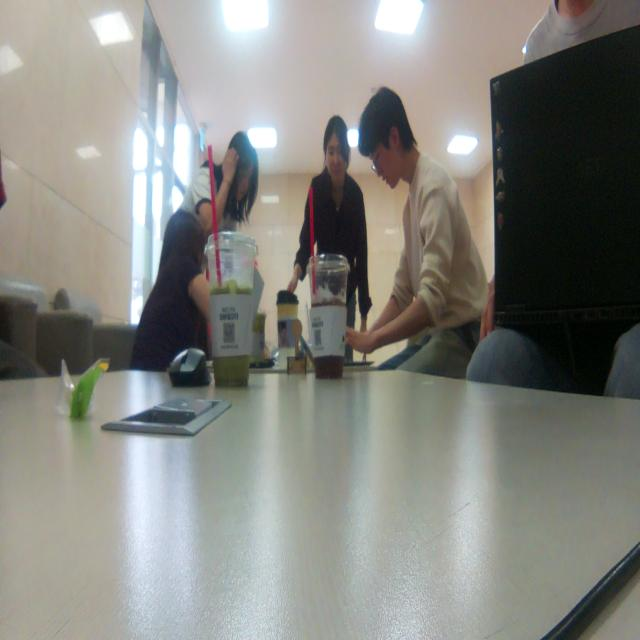target: (287, 318, 308, 375)
